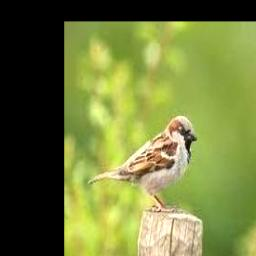Sparrow: (88, 115, 197, 211)
